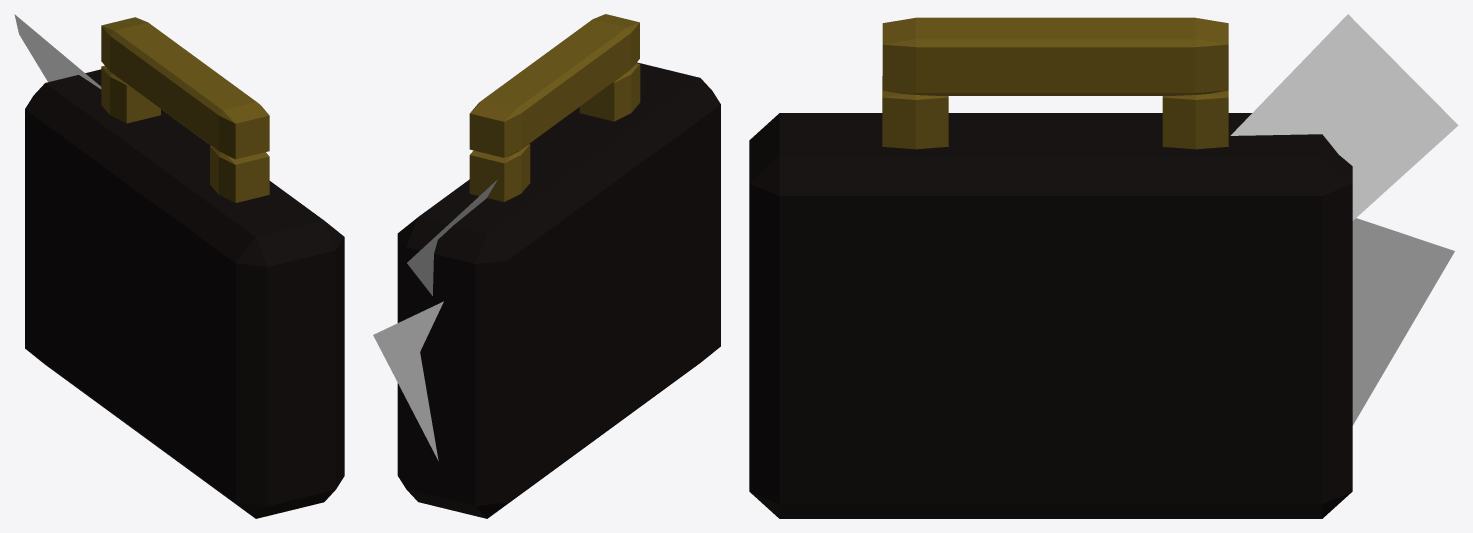
The model's file is briefcase.fbx.
The picture shows the model from 3 angles, left to right: view 1: azimuth 30°, elevation 25°; view 2: azimuth 150°, elevation 25°; view 3: azimuth 270°, elevation 25°; orthographic projection. The views are drawn at different scales.
Parts seen in each view (by area): view 1: Plane.002; view 2: Plane.002; view 3: Plane.002.
Part boxes in pixels (x1,y1,x2,y2): Plane.002: (14,14,344,518); Plane.002: (373,14,720,518); Plane.002: (749,14,1458,518).
Bounding box in the file's own units: 53.97 × 172 × 235.
